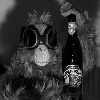beer: (62, 14, 84, 92)
